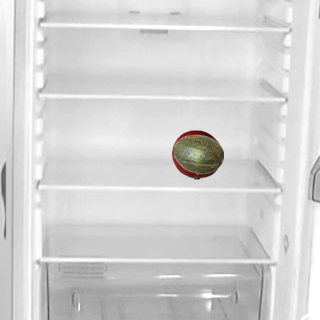Apple Braeburn: (171, 129, 221, 179)
Melon Piel de Sapo: (173, 129, 223, 179)
